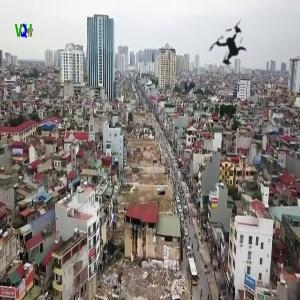drone: (192, 7, 270, 85)
